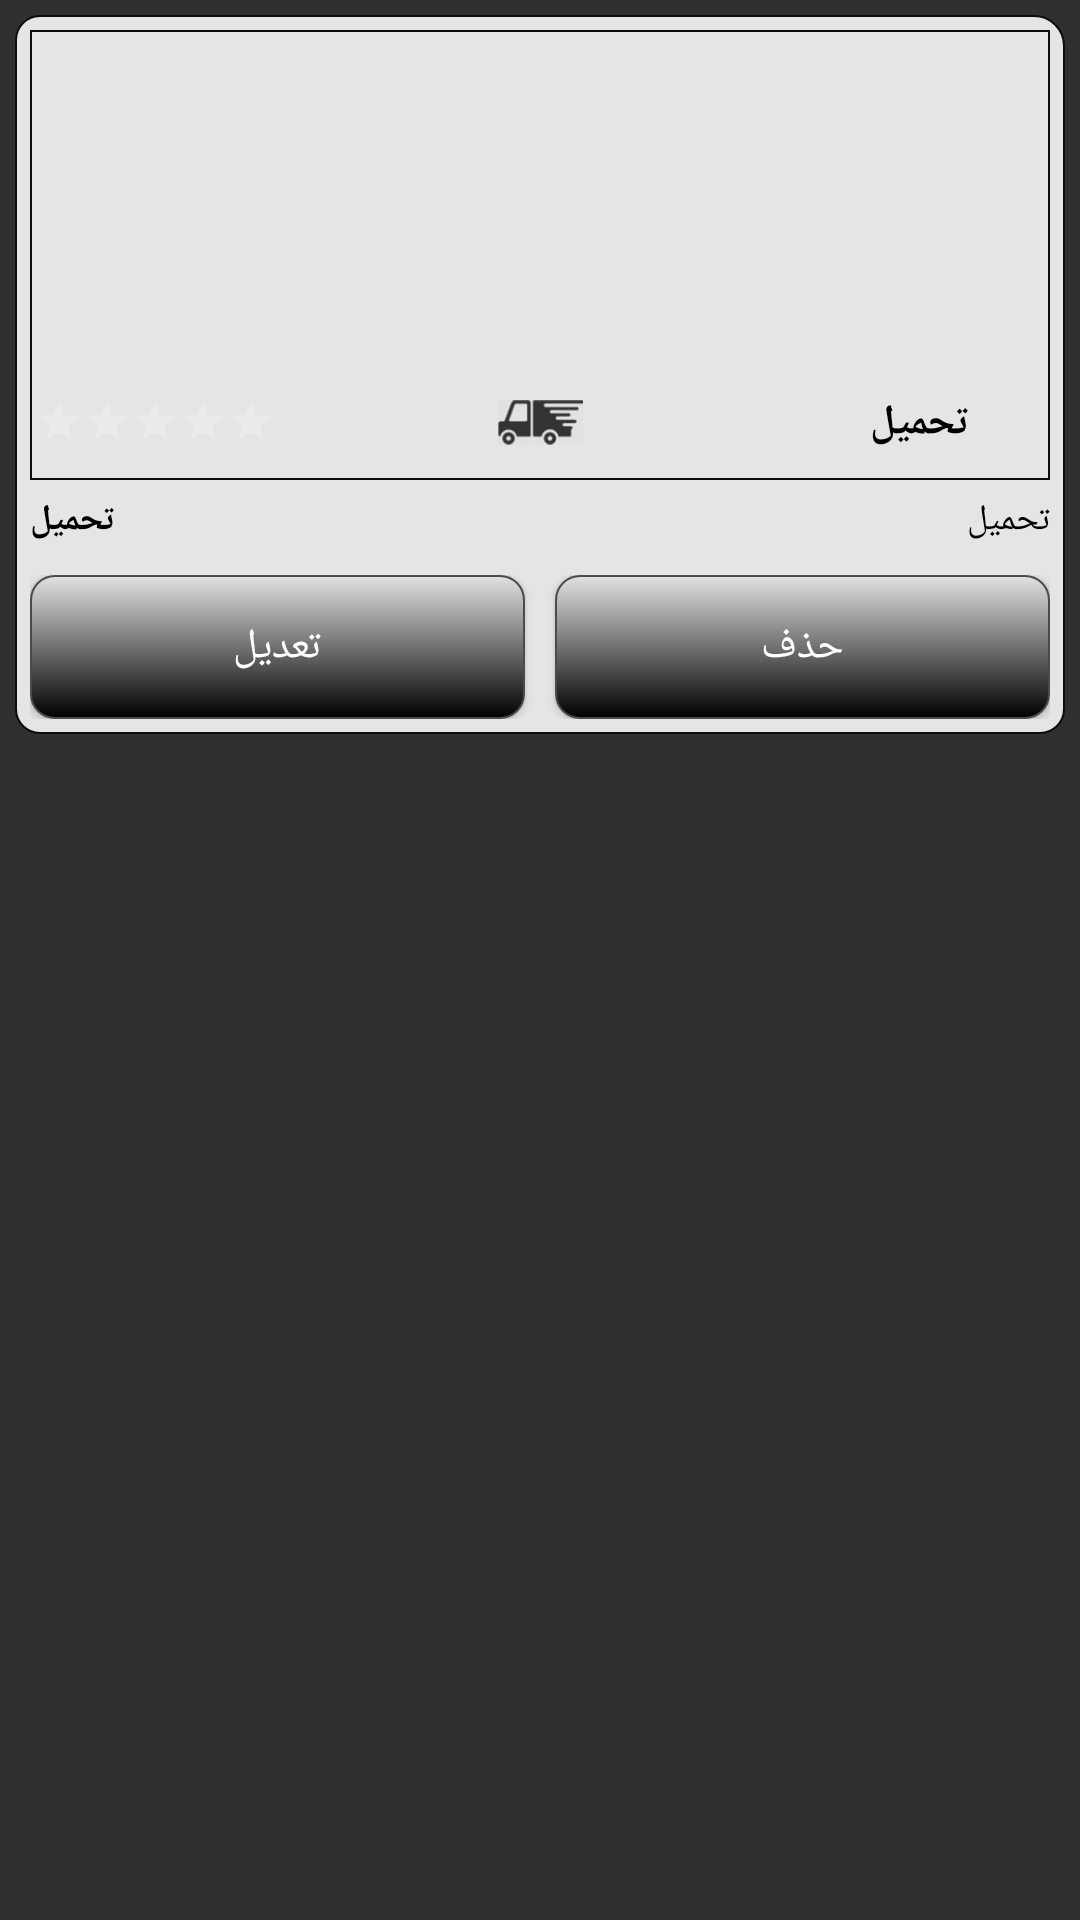

Where icons sit on this 1080px x 1920px app screen, as [x1, y1, x2, y2]:
deliverable: [498, 400, 583, 445]
